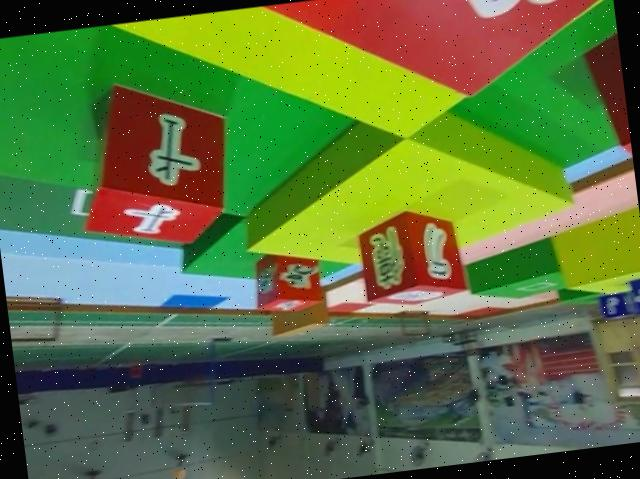R1: (248, 246, 326, 318)
R2 Fake: (352, 201, 471, 312)
R2 Real: (61, 68, 239, 259)
